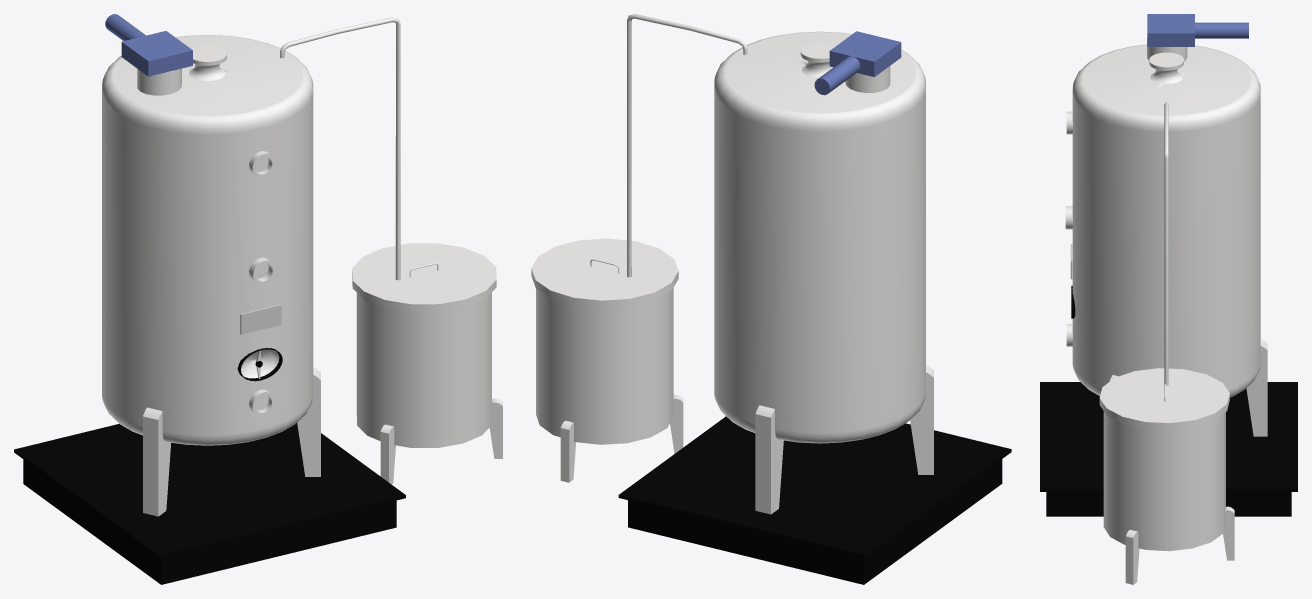
The model's file is damıtma cihazı alternatif.fbx.
3 renders of one model, left to right at view 1: azimuth 30°, elevation 25°; view 2: azimuth 150°, elevation 25°; view 3: azimuth 270°, elevation 25°, orthographic. The views are drawn at different scales.
Visible parts, largest first — view 1: silver; view 2: silver; view 3: silver.
Part boxes in pixels (left/top/right/bottom): silver: left=14, top=14, right=502, bottom=584; silver: left=531, top=14, right=1011, bottom=584; silver: left=1040, top=14, right=1297, bottom=584.
Size of the model in its own units: 1335 by 1510 by 839.
